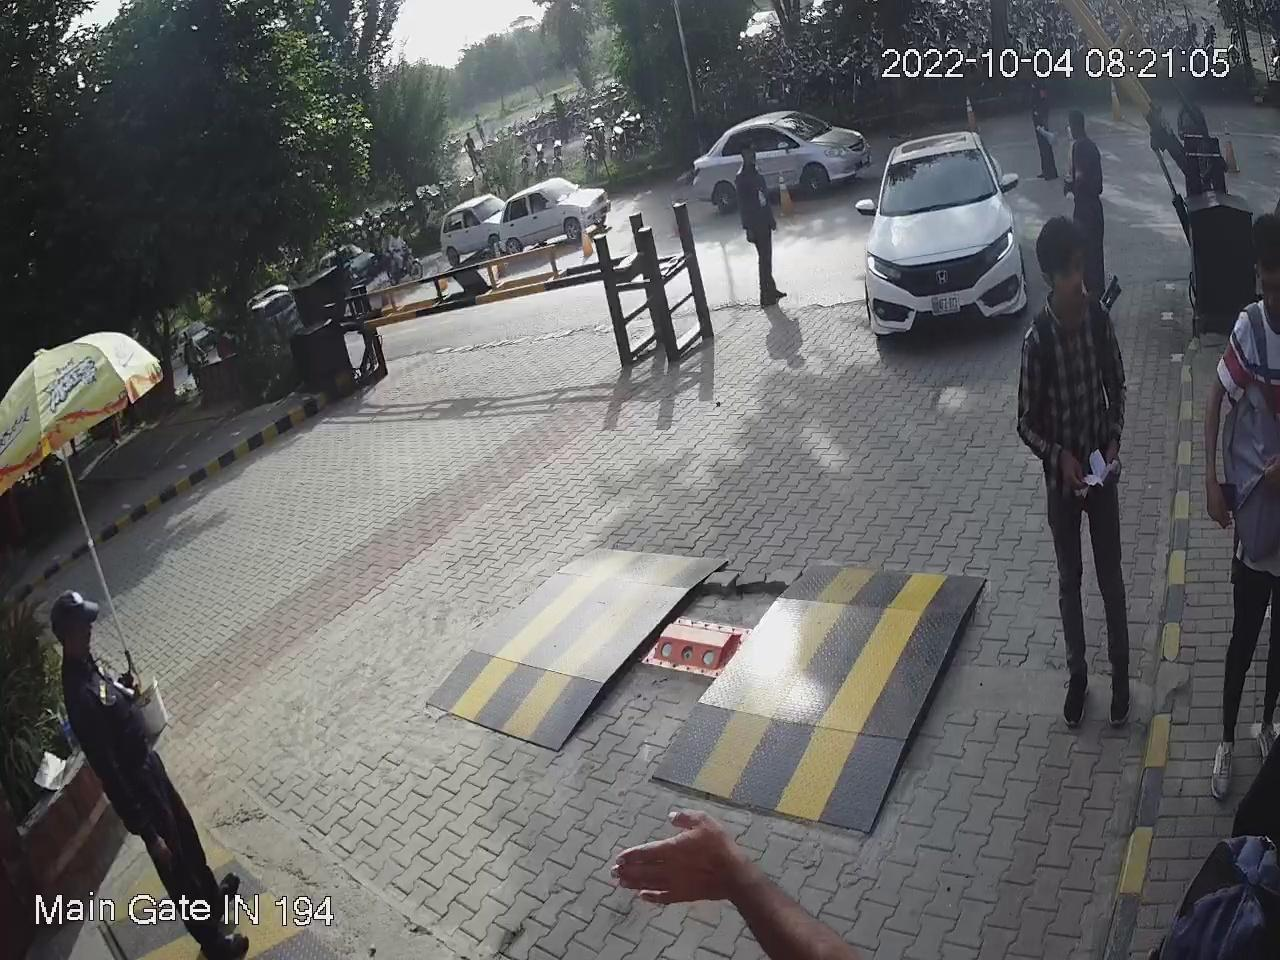windshield: (878, 142, 1003, 215)
